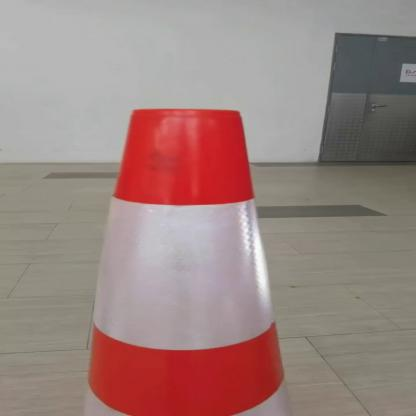cone: (80, 101, 310, 416)
